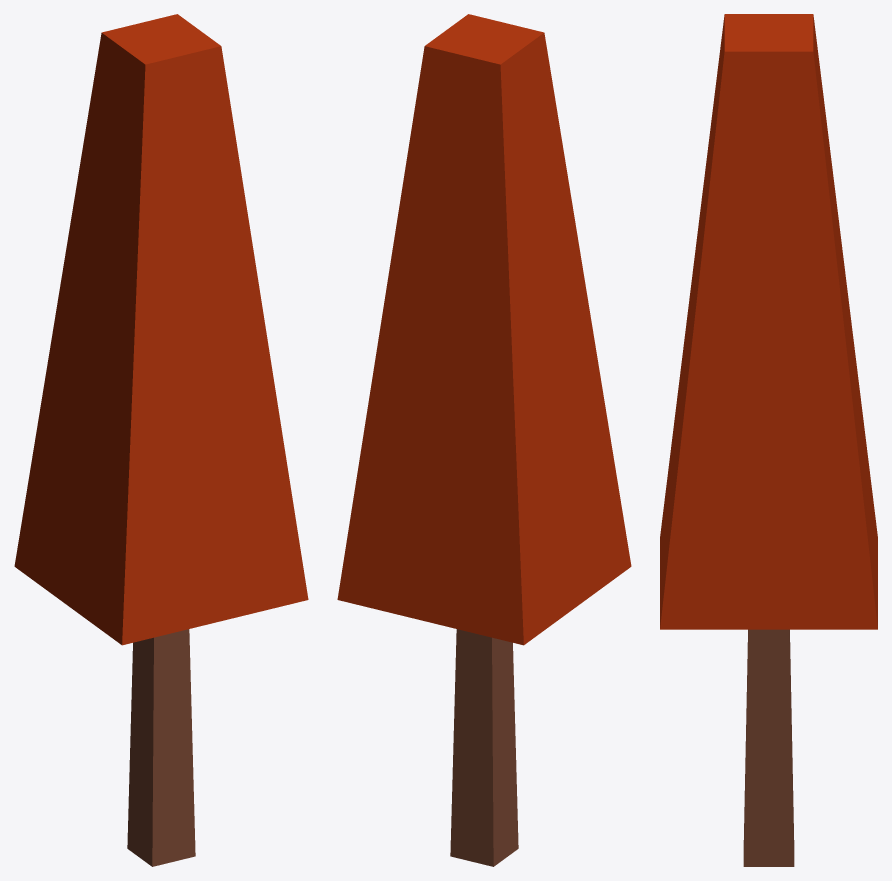
File: Tree_26_summer_red_vc.fbx
3 renders of one model, left to right at view 1: azimuth 30°, elevation 25°; view 2: azimuth 150°, elevation 25°; view 3: azimuth 270°, elevation 25°, orthographic.
Visible parts, largest first — view 1: Tree_26_summer_red_vc; view 2: Tree_26_summer_red_vc; view 3: Tree_26_summer_red_vc.
Part boxes in pixels (box(x1,y1,x2,y2)): Tree_26_summer_red_vc: box(14, 14, 308, 866); Tree_26_summer_red_vc: box(337, 14, 631, 866); Tree_26_summer_red_vc: box(660, 14, 877, 866).
Size of the model in its own units: 63.19 by 263 by 63.19.
